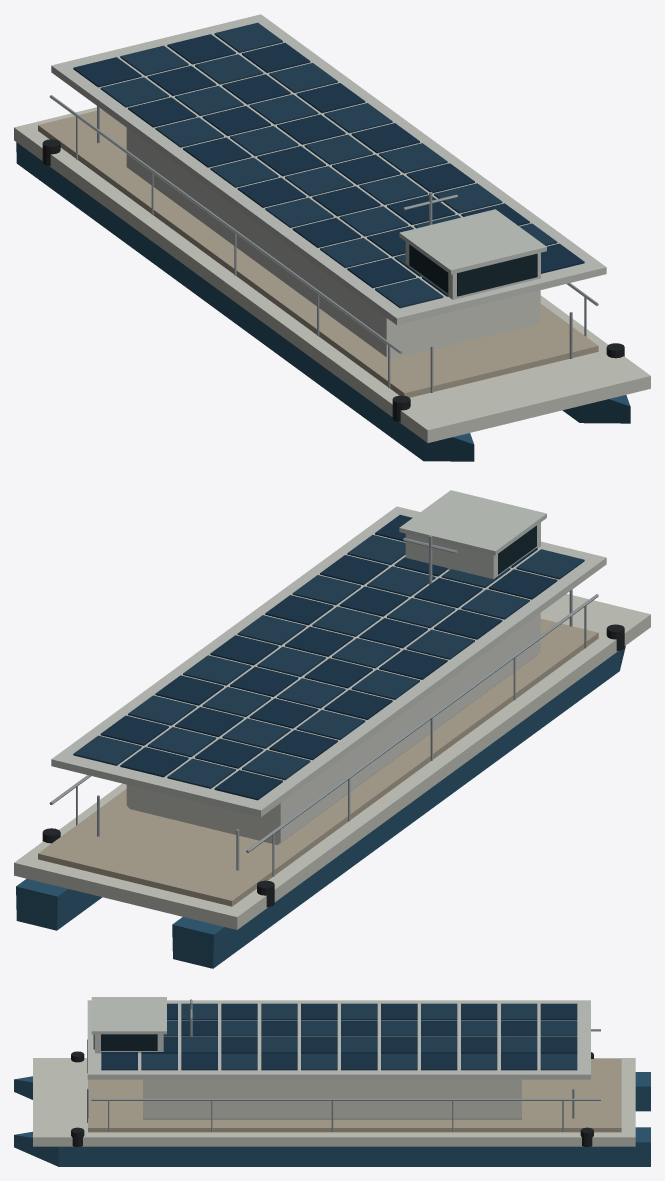
The model's file is ferry-faehrbaer.glb.
3 views of the same model, one above another, from view 1: azimuth 30°, elevation 25°; view 2: azimuth 150°, elevation 25°; view 3: azimuth 270°, elevation 25° (orthographic). The views are drawn at different scales.
Visible parts, largest first — view 1: segment-01.005; view 2: segment-01.005; view 3: segment-01.005.
Part boxes in pixels (left/top/right/bottom): segment-01.005: left=14, top=14, right=650, bottom=461; segment-01.005: left=14, top=490, right=650, bottom=968; segment-01.005: left=14, top=997, right=650, bottom=1166.
Bounding box in the file's own units: 5.61 × 4.15 × 18.5.
